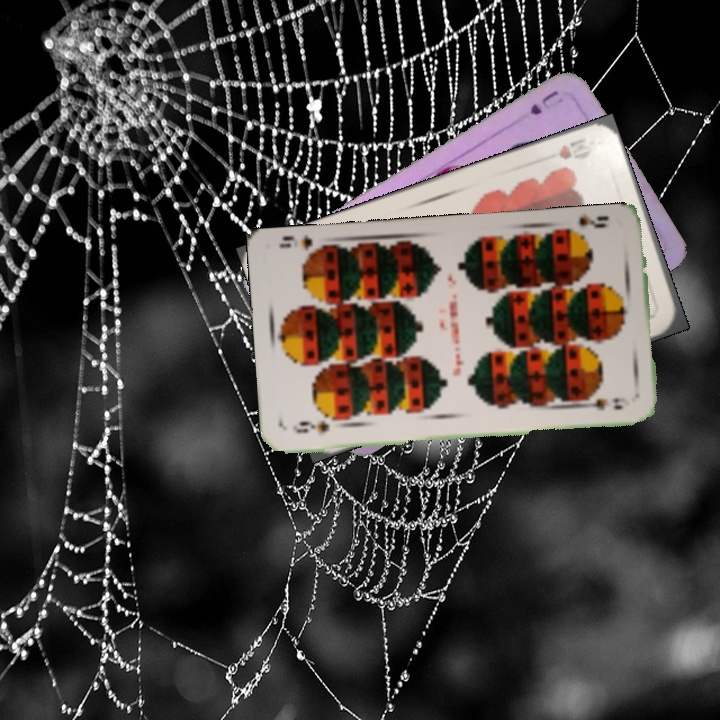H10: (554, 134, 595, 162)
S9: (561, 211, 611, 241), (288, 417, 332, 436)
SU: (526, 86, 566, 118)
